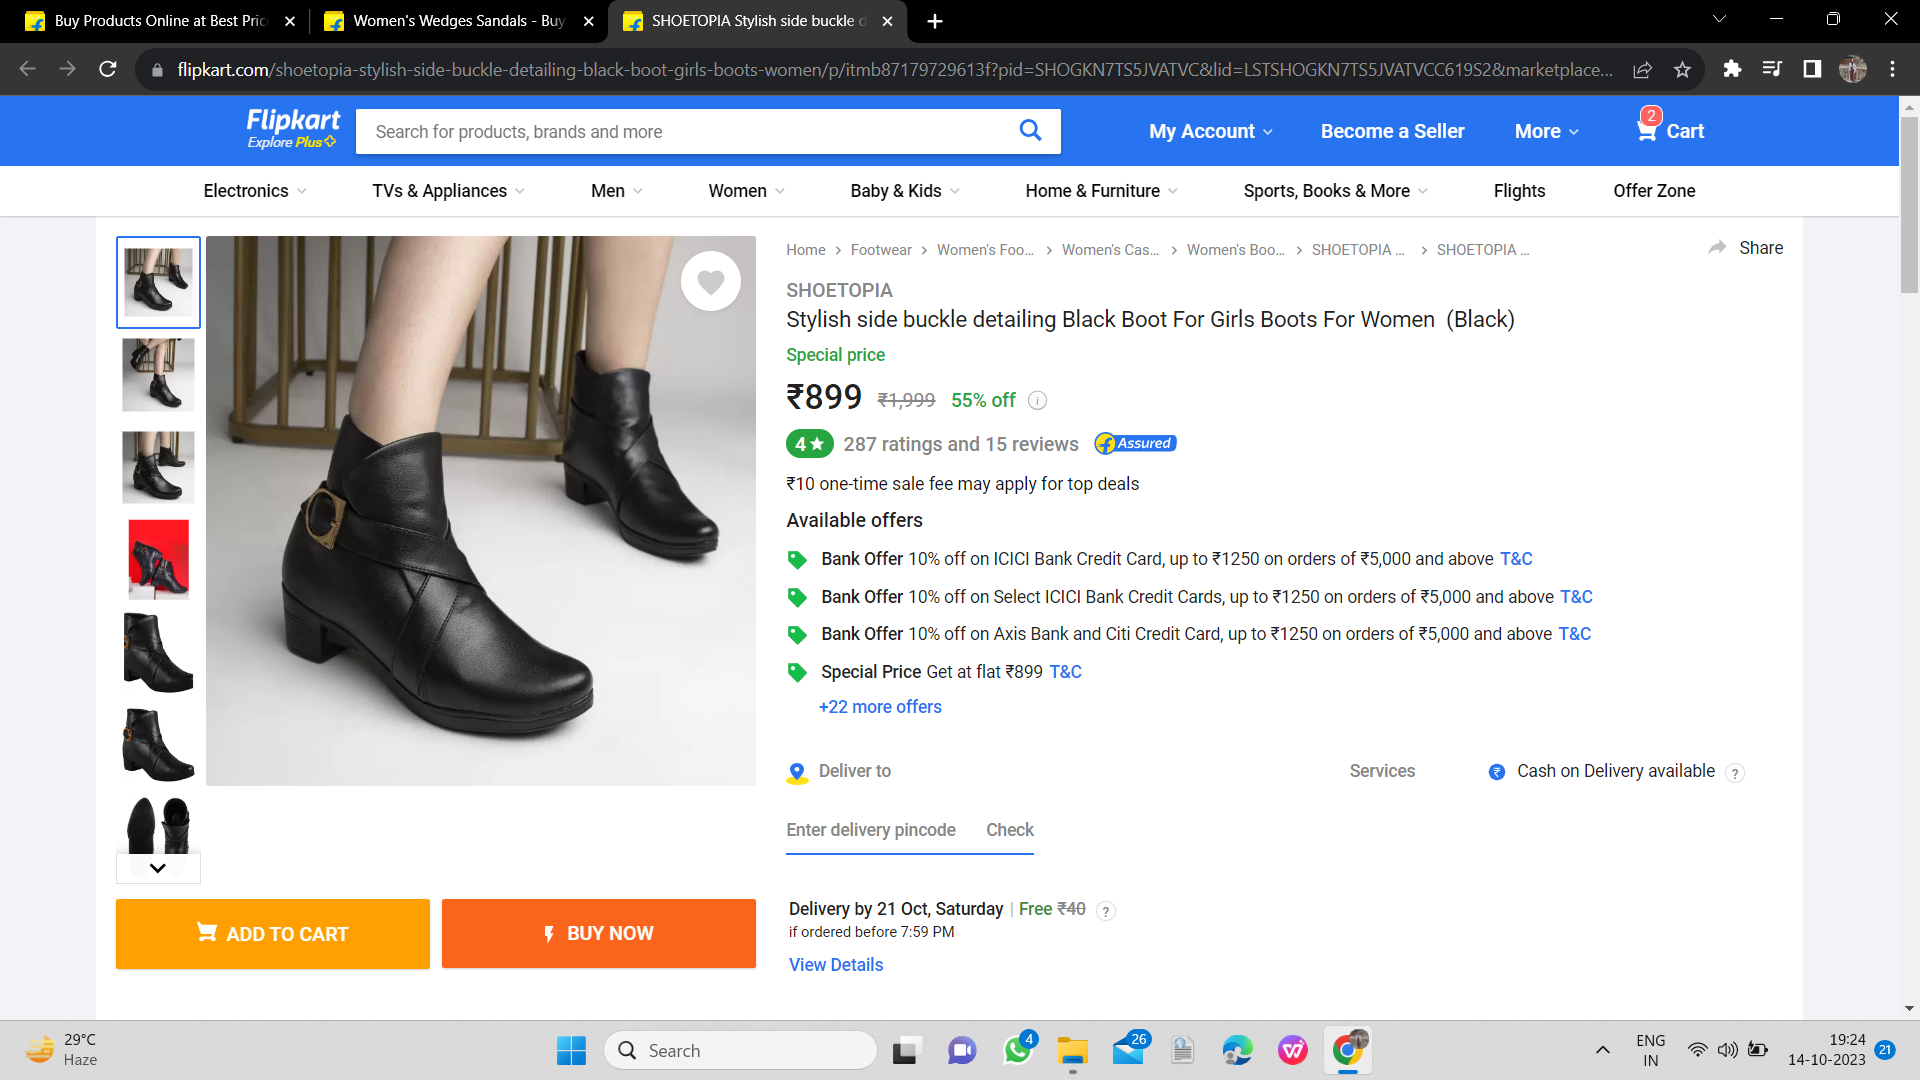Image: (211, 237, 749, 789)
Paragraph: (769, 551, 1647, 720), (100, 882, 766, 990), (1120, 87, 1713, 169), (783, 276, 1523, 335), (773, 754, 1047, 852), (775, 344, 1014, 418), (1341, 752, 1721, 790), (769, 434, 1200, 455), (773, 468, 1151, 489), (766, 897, 1010, 924), (786, 510, 951, 530)
